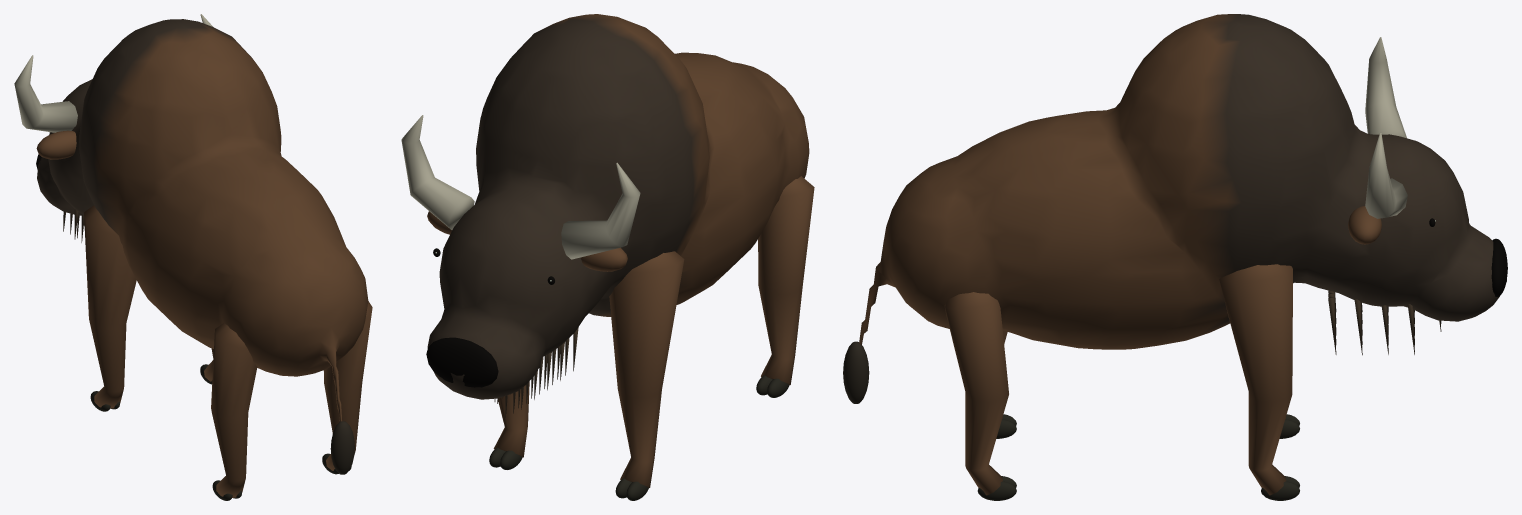
The model's file is animal_bison.glb.
3 renders of one model, left to right at view 1: azimuth 30°, elevation 25°; view 2: azimuth 150°, elevation 25°; view 3: azimuth 270°, elevation 25°, orthographic. The views are drawn at different scales.
Parts seen in each view (by area): view 1: Body, LegFL, LegBL, LegBR; view 2: Body, LegFL, LegBL, LegFR; view 3: Body, LegFR, LegBR.
Boxes of the visible parts, <box> form: Body: <box>14,14,368,474</box>; LegFL: <box>84,205,136,411</box>; LegBL: <box>211,323,257,500</box>; LegBR: <box>322,301,372,474</box>; Body: <box>401,14,809,417</box>; LegFL: <box>609,251,684,500</box>; LegBL: <box>756,176,814,397</box>; LegFR: <box>489,381,529,469</box>; Body: <box>843,14,1507,403</box>; LegFR: <box>1219,264,1299,500</box>; LegBR: <box>944,292,1016,500</box>.
Size of the model in its own units: 1.05 by 1.87 by 2.53.
